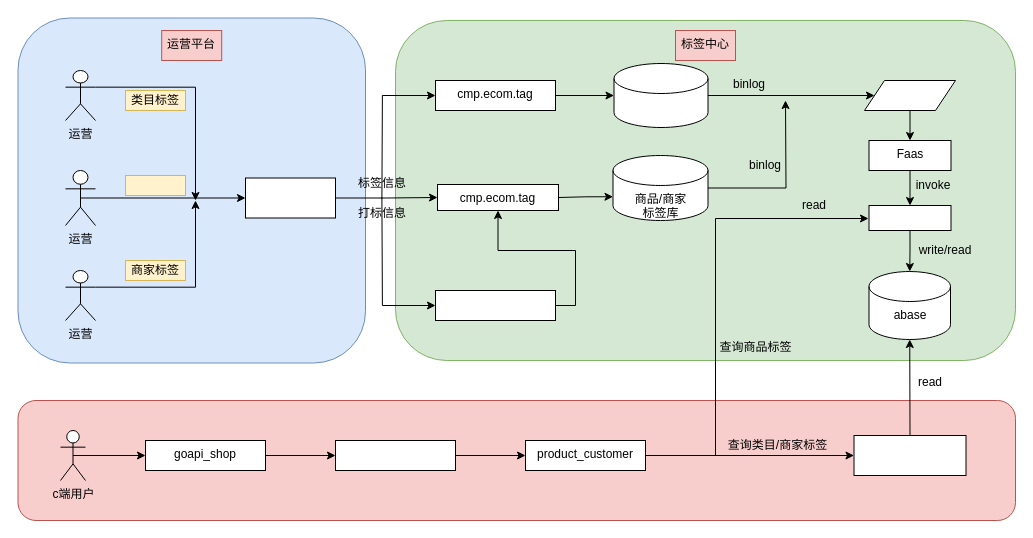
This 1033x538 diagram has some shape labels left out. Here are the shapes that lost their labels. From the top down, the box of each, then its label:
(613, 62, 708, 128): 类目 标签库
(864, 80, 956, 110): rocketmq
(124, 174, 186, 196): 商品标签
(244, 177, 336, 218): 1. 创建标签 2. 实体打标
(868, 204, 951, 230): cmp.srv.goods
(434, 290, 556, 320): ecom.shop.platform
(334, 440, 456, 470): alliance_pack
(853, 434, 966, 476): tag_customer
